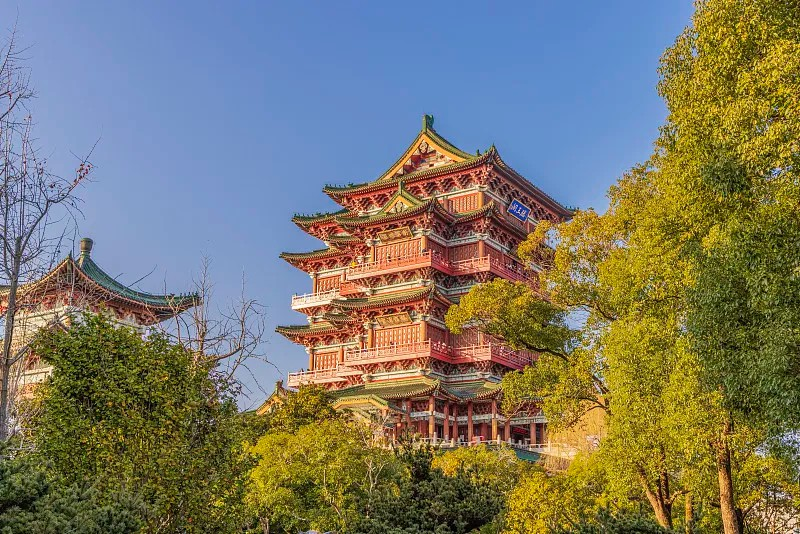Teng: (276, 114, 581, 442)
